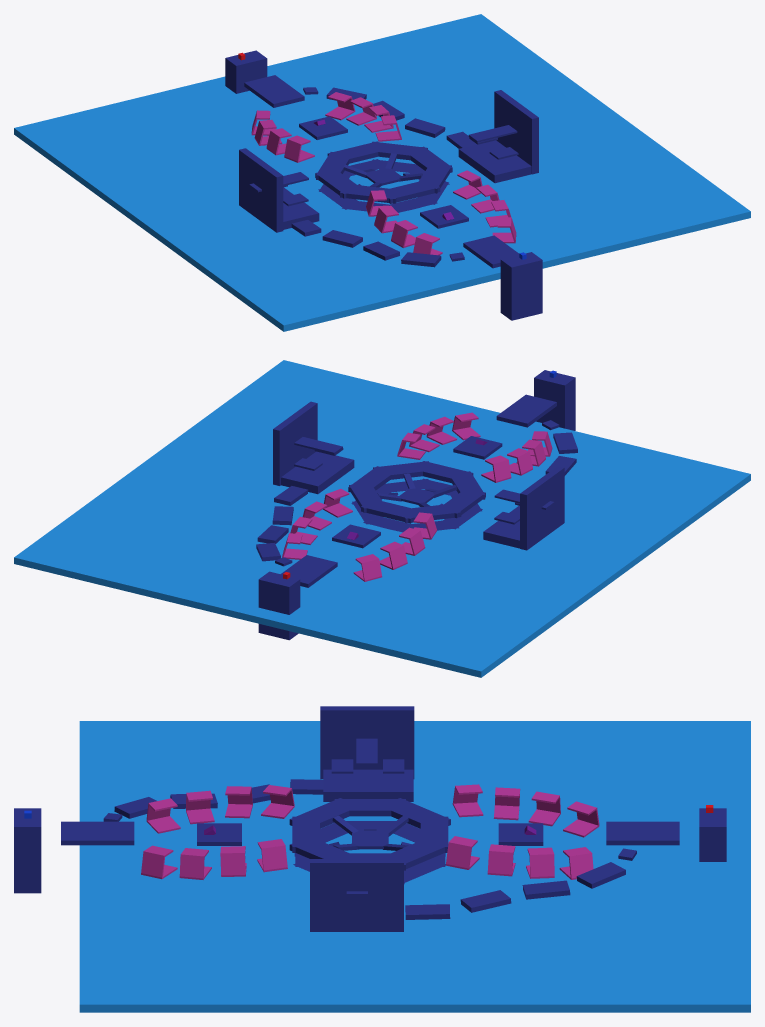
Rendered from CTF_01.fbx.
3 renders of one model, top to bottom at view 1: azimuth 30°, elevation 25°; view 2: azimuth 150°, elevation 25°; view 3: azimuth 270°, elevation 25°, orthographic. The views are drawn at different scales.
Parts seen in each view (by area): view 1: Water__4_, Cube__6__3, Cube__6__2, Cube__6__5, Cube__5__5, Cube__6__4, Cube__5__4, Cube__5__2, Cube__3__1, Cube__5__3, Cube__6__1, Cube__2__3 (+5 smaller); view 2: Water__4_, Cube__6__3, Cube__6__5, Cube__6__4, Cube__6__2, Cube__5__5, Cube__5__2, Cube__5__4, Cube__5__3, Cube__4__1, Cube__2__2, Cube__8__1 (+4 smaller); view 3: Water__4_, Cube__6__5, Cube__6__3, Cube__5__3, Cube__6__2, Cube__5__4, Cube__5__2, Cube__6__4, Cube__14__2, Cube__5__1, Cube__2__3, Cube__2__2 (+20 smaller).
Boxes of the visible parts, x1,y1,x2,y2 form: Water__4_: [14, 14, 750, 331]; Cube__6__3: [239, 148, 283, 232]; Cube__6__2: [500, 252, 542, 320]; Cube__6__5: [494, 90, 538, 174]; Cube__5__5: [458, 140, 531, 183]; Cube__6__4: [225, 50, 267, 93]; Cube__5__4: [244, 75, 304, 107]; Cube__5__2: [463, 235, 519, 268]; Cube__3__1: [384, 179, 440, 203]; Cube__5__3: [283, 187, 319, 229]; Cube__6__1: [367, 141, 427, 160]; Cube__2__3: [299, 116, 347, 139]; Water__4_: [14, 360, 750, 677]; Cube__6__3: [520, 466, 564, 550]; Cube__6__5: [273, 401, 317, 485]; Cube__6__4: [258, 571, 300, 640]; Cube__6__2: [534, 370, 575, 430]; Cube__5__5: [281, 451, 354, 494]; Cube__5__2: [496, 394, 556, 427]; Cube__5__4: [281, 555, 337, 587]; Cube__5__3: [483, 505, 519, 548]; Cube__4__1: [361, 498, 421, 523]; Cube__2__2: [453, 436, 502, 459]; Cube__8__1: [373, 461, 432, 479]; Water__4_: [79, 721, 750, 1012]; Cube__6__5: [310, 859, 403, 931]; Cube__6__3: [320, 706, 414, 779]; Cube__5__3: [323, 769, 413, 801]; Cube__6__2: [14, 808, 41, 893]; Cube__5__4: [606, 821, 679, 845]; Cube__5__2: [61, 821, 134, 845]; Cube__6__4: [699, 808, 726, 861]; Cube__14__2: [381, 798, 450, 828]; Cube__5__1: [289, 798, 359, 828]; Cube__2__3: [498, 823, 543, 845]; Cube__2__2: [197, 823, 241, 845].
Bounding box in the file's own units: 20000 × 3298 × 21954.
